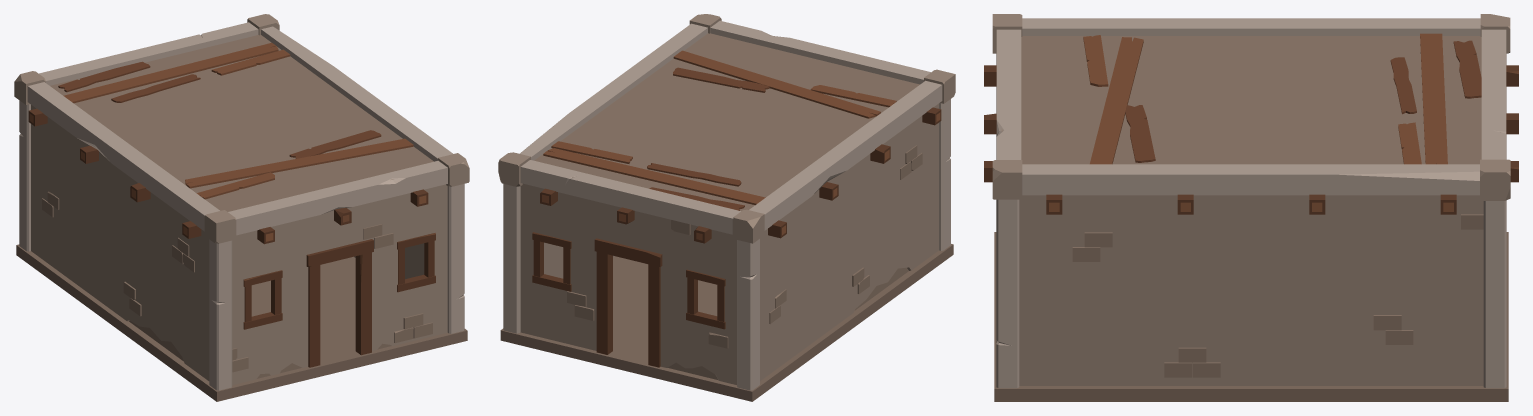
File: House_02.fbx
3 renders of one model, left to right at view 1: azimuth 30°, elevation 25°; view 2: azimuth 150°, elevation 25°; view 3: azimuth 270°, elevation 25°, orthographic. The views are drawn at different scales.
Parts seen in each view (by area): view 1: House_02; view 2: House_02; view 3: House_02.
Boxes of the visible parts, left/top/right/bottom form: House_02: left=14, top=14, right=469, bottom=401; House_02: left=498, top=14, right=955, bottom=401; House_02: left=984, top=14, right=1518, bottom=401.
Size of the model in its own units: 554 by 356 by 749.
